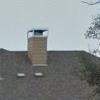Chimney: (20, 21, 56, 69)
